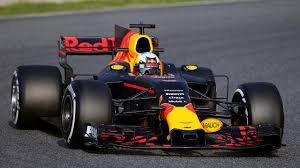FormulaOneCar: (6, 20, 292, 160)
